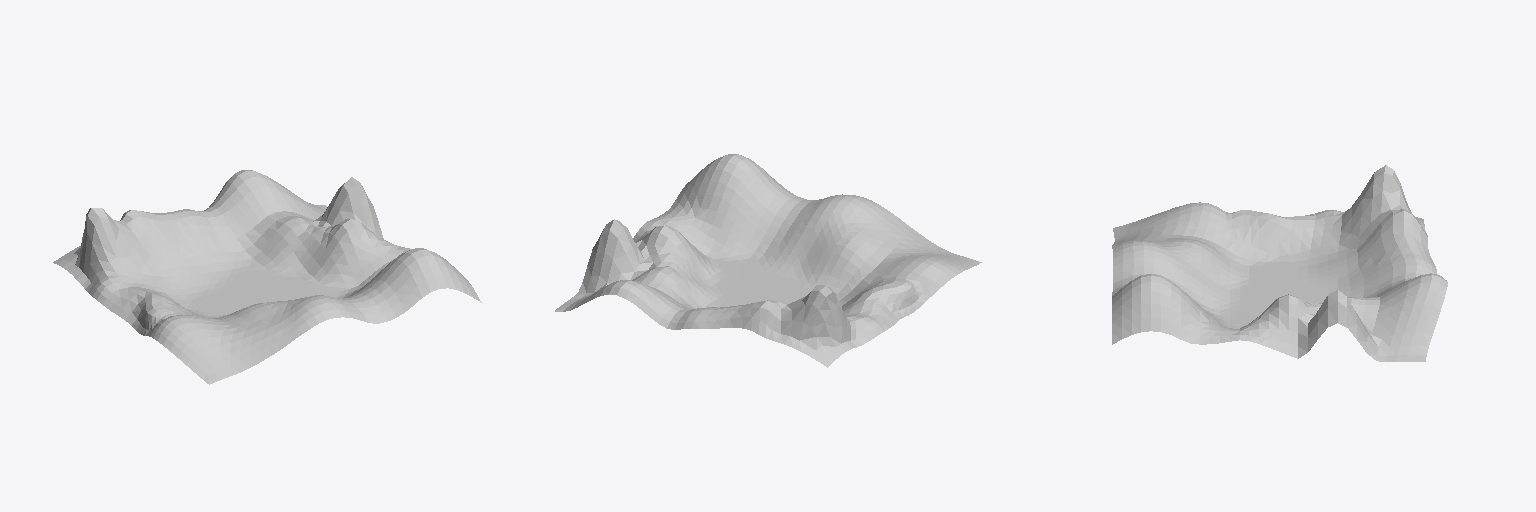
The model's file is terrain.obj.
The picture shows the model from 3 angles: view 1: azimuth 30°, elevation 25°; view 2: azimuth 150°, elevation 25°; view 3: azimuth 270°, elevation 25°; orthographic projection.
Parts seen in each view (by area): view 1: Plane; view 2: Plane; view 3: Plane.
Part boxes in pixels (left/top/right/bottom): Plane: left=53, top=170, right=481, bottom=384; Plane: left=555, top=154, right=981, bottom=367; Plane: left=1112, top=165, right=1447, bottom=361.
Size of the model in its own units: 105 by 25.99 by 108.